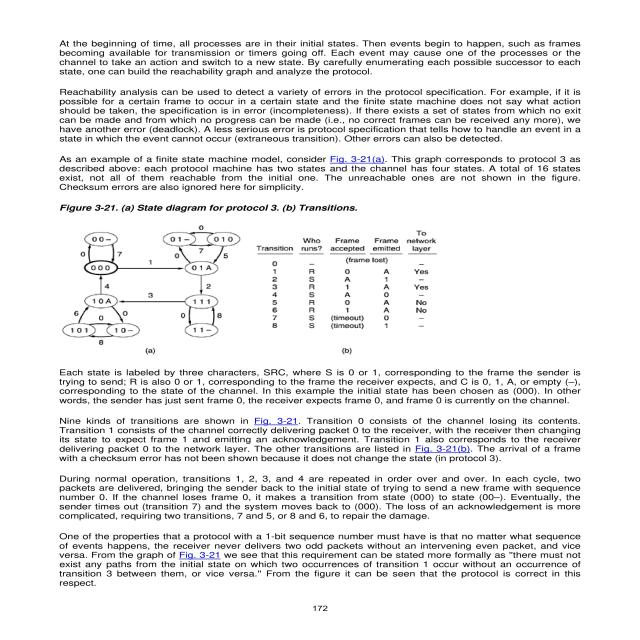diagram: (49, 196, 460, 365)
